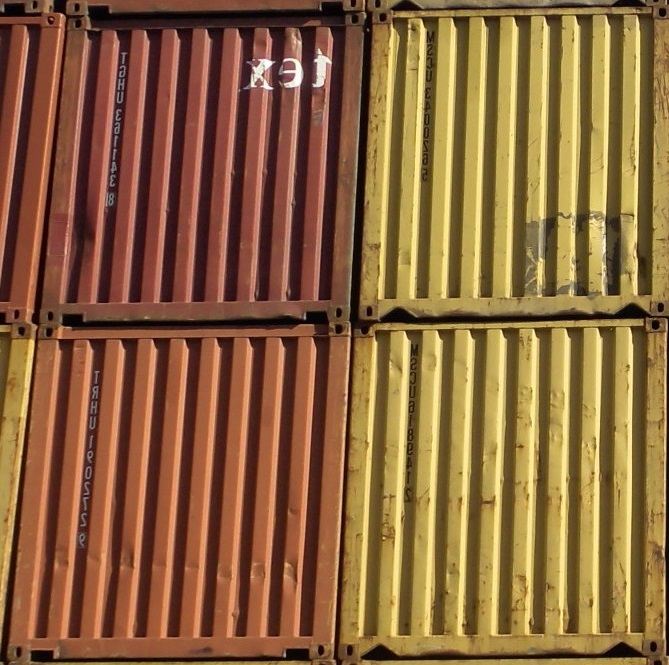container_no_door: (1, 325, 348, 664), (335, 322, 662, 651), (37, 12, 360, 327), (355, 5, 667, 319)
